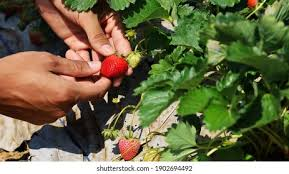ripe: (116, 131, 145, 163), (98, 51, 125, 76)
